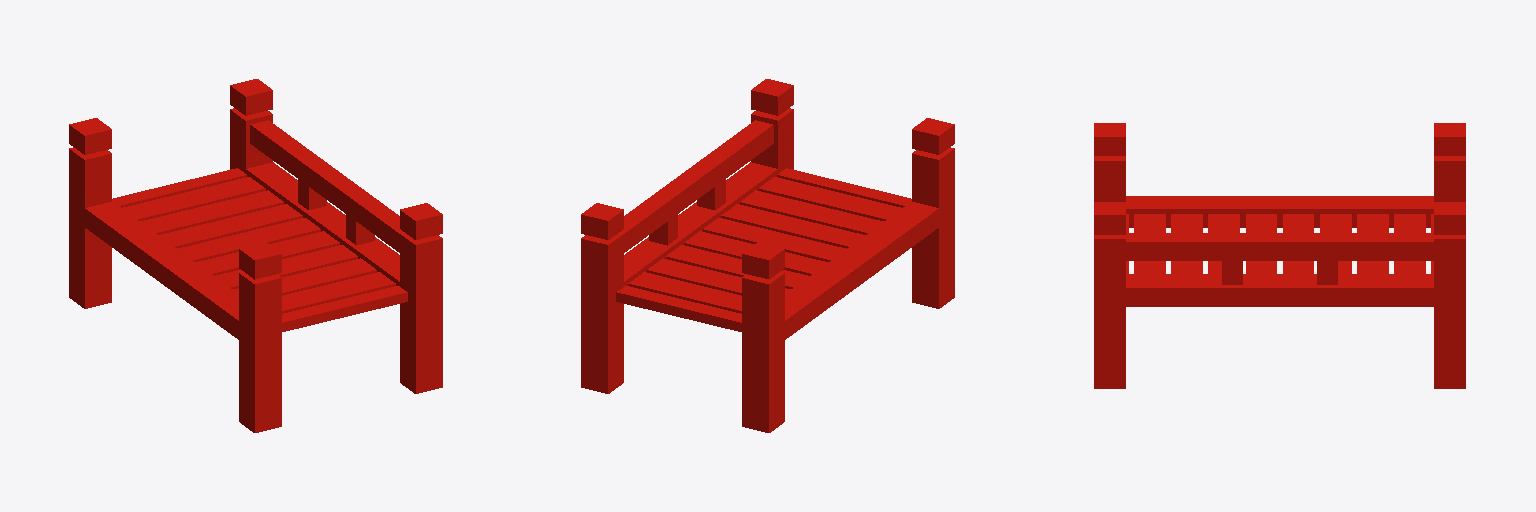
3 renders of one model, left to right at view 1: azimuth 30°, elevation 25°; view 2: azimuth 150°, elevation 25°; view 3: azimuth 270°, elevation 25°, orthographic.
Parts seen in each view (by area): view 1: cube; view 2: cube; view 3: cube.
Boxes of the visible parts, x1=… form: cube: x1=69, y1=79, x2=442, y2=432; cube: x1=581, y1=79, x2=954, y2=432; cube: x1=1094, y1=123, x2=1465, y2=388.
Size of the model in its own units: 0.6406 by 0.5625 by 1.09.
1 materials, 1 textured.